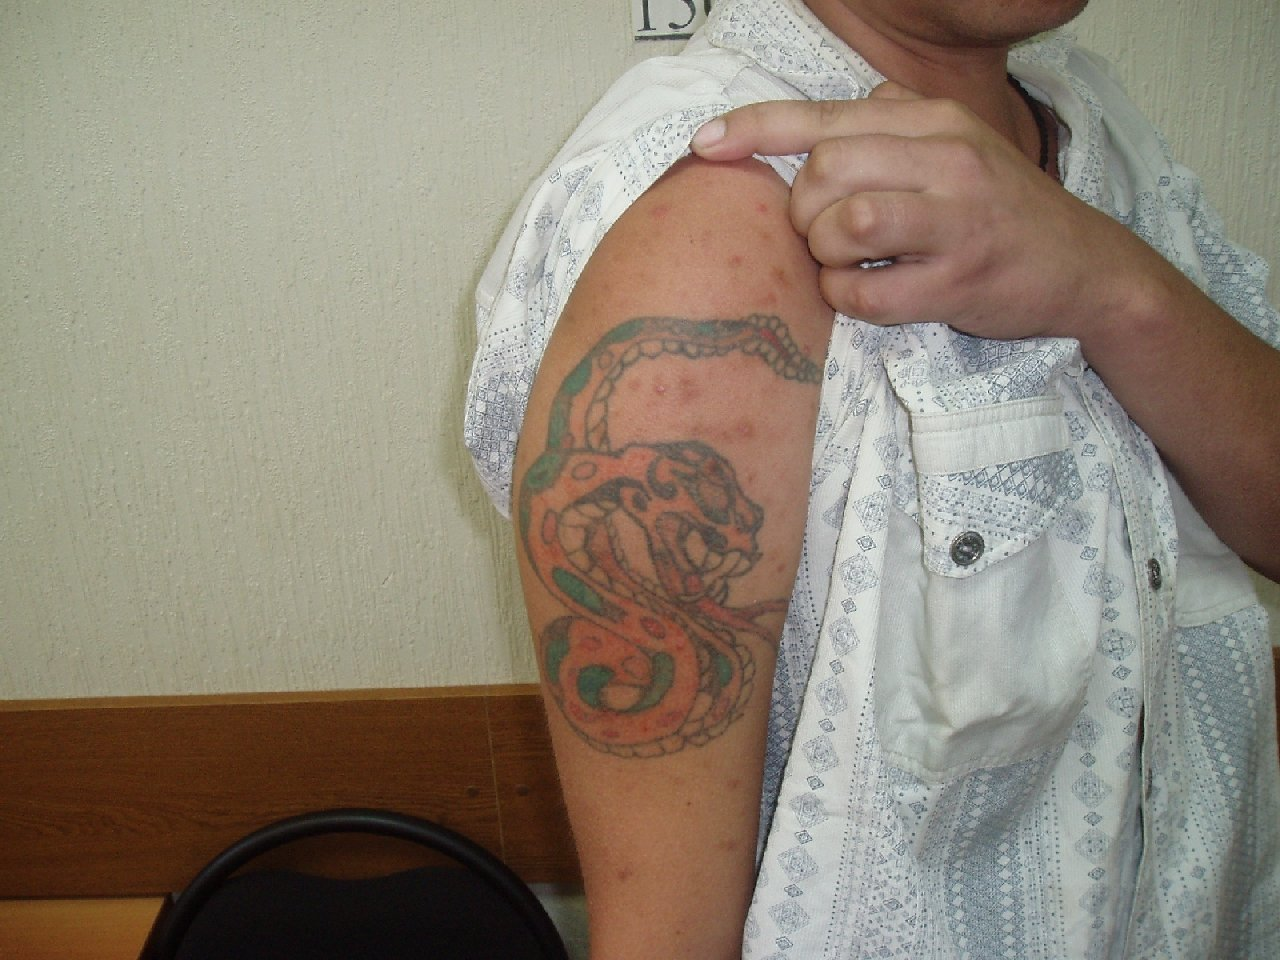tatu9_krest: (526, 264, 842, 808)
